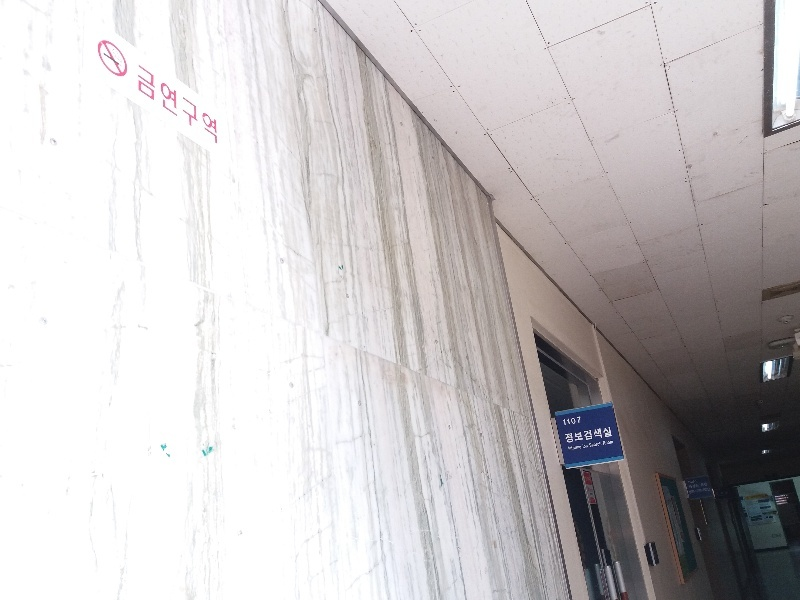text: (145, 63, 160, 149), (161, 63, 176, 149), (177, 63, 192, 149), (193, 63, 208, 149), (209, 63, 220, 149), (138, 63, 144, 149), (577, 427, 592, 444), (593, 427, 608, 444), (565, 427, 576, 444), (562, 416, 576, 426), (689, 487, 704, 495), (689, 484, 704, 489), (609, 427, 613, 444), (593, 442, 602, 448), (582, 444, 592, 449), (568, 445, 576, 451), (705, 487, 711, 495), (689, 480, 698, 485), (577, 416, 581, 426), (577, 445, 582, 451), (585, 477, 592, 481), (753, 495, 762, 498), (603, 441, 608, 446), (609, 441, 614, 446), (588, 488, 592, 493), (589, 442, 592, 448), (701, 482, 704, 488), (705, 482, 708, 488), (593, 488, 594, 493), (751, 495, 752, 498), (590, 494, 592, 495)
